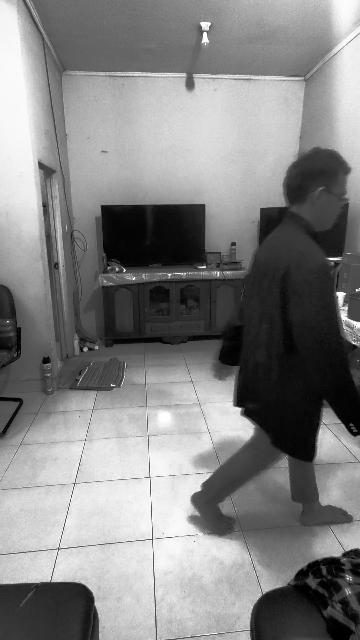berjalan: (182, 146, 360, 528)
